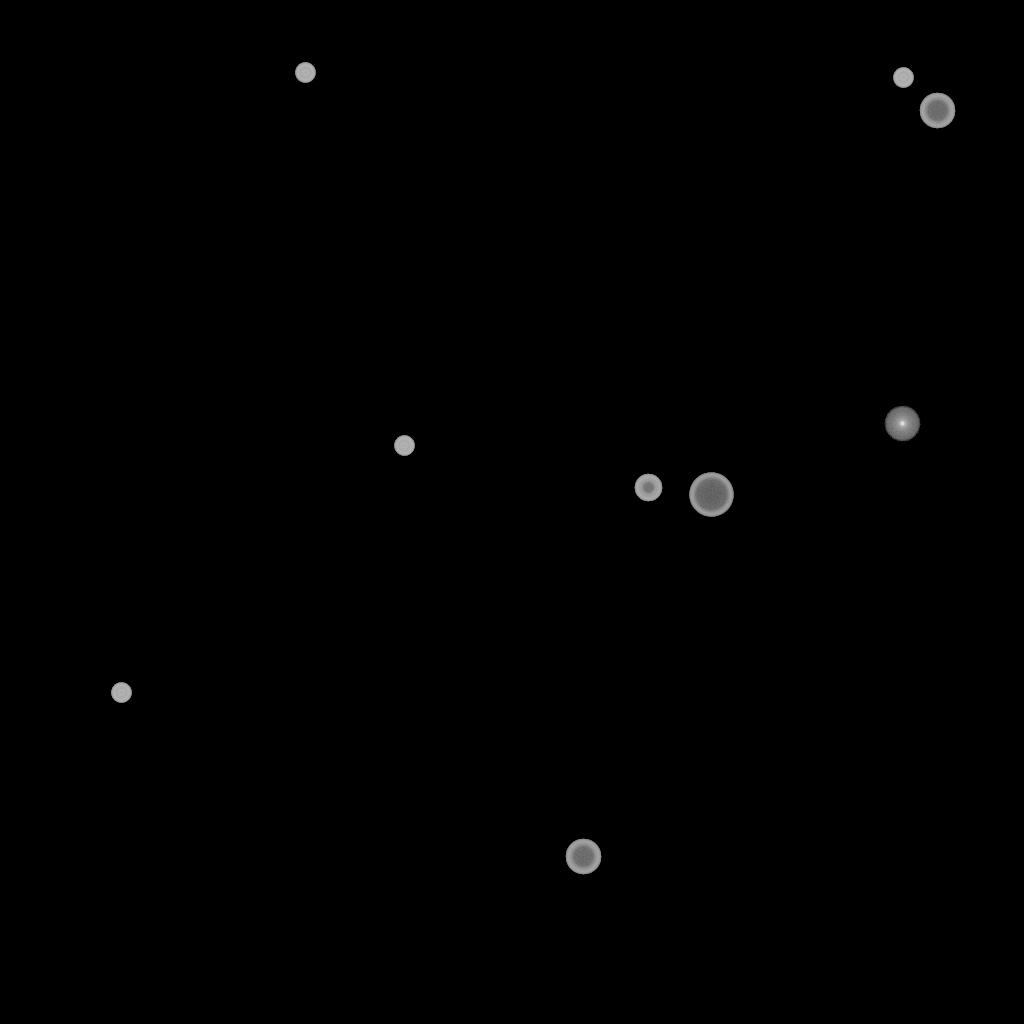depth:-40: (111, 683, 131, 703), (893, 68, 913, 88), (295, 63, 315, 83), (394, 436, 414, 456)
depth:-50: (634, 474, 662, 502)
depth:-60: (565, 839, 601, 875), (919, 93, 955, 129)
depth:-70: (689, 473, 733, 517)
depth:0: (884, 406, 920, 442)
